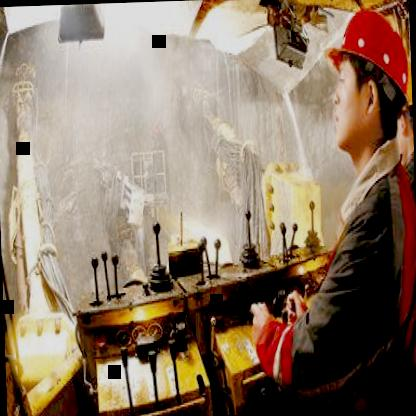helmet: (317, 0, 415, 171)
